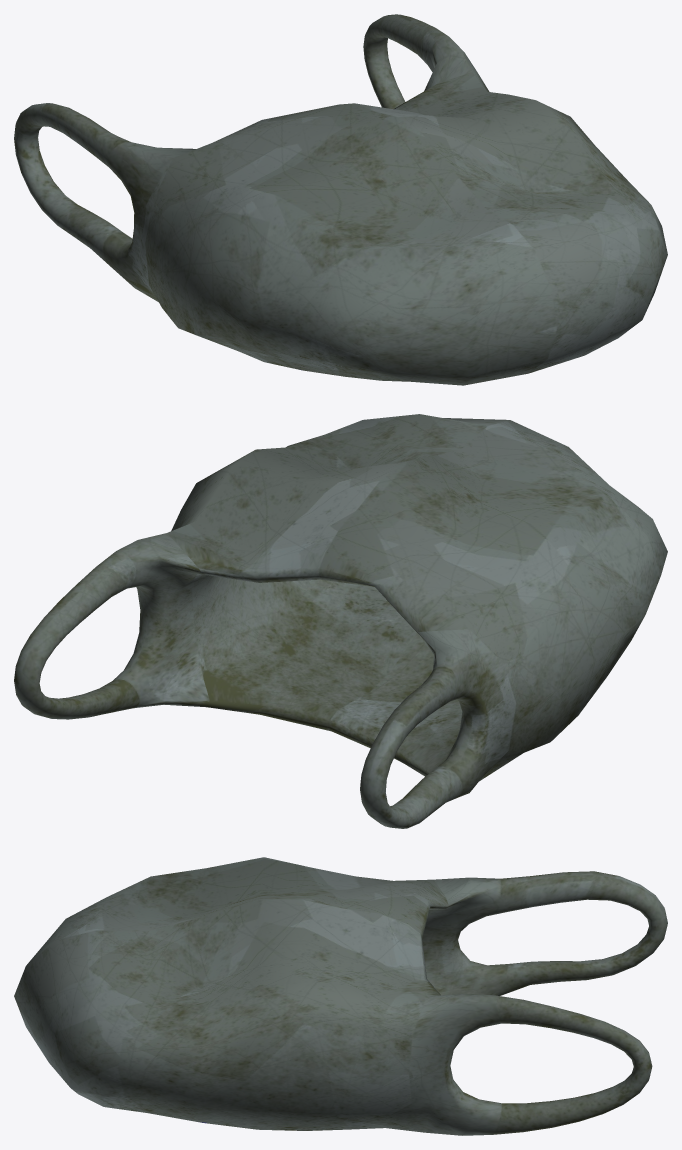
3 renders of one model, top to bottom at view 1: azimuth 30°, elevation 25°; view 2: azimuth 150°, elevation 25°; view 3: azimuth 270°, elevation 25°, orthographic. The views are drawn at different scales.
Parts seen in each view (by area): view 1: PlasticBag3; view 2: PlasticBag3; view 3: PlasticBag3.
Boxes of the visible parts, left/top/right/bottom form: PlasticBag3: left=14, top=14, right=667, bottom=385; PlasticBag3: left=14, top=414, right=667, bottom=828; PlasticBag3: left=14, top=857, right=667, bottom=1135.
Bounding box in the file's own units: 1.31 × 0.6887 × 2.
Materials: 1 (1 with a texture image).
